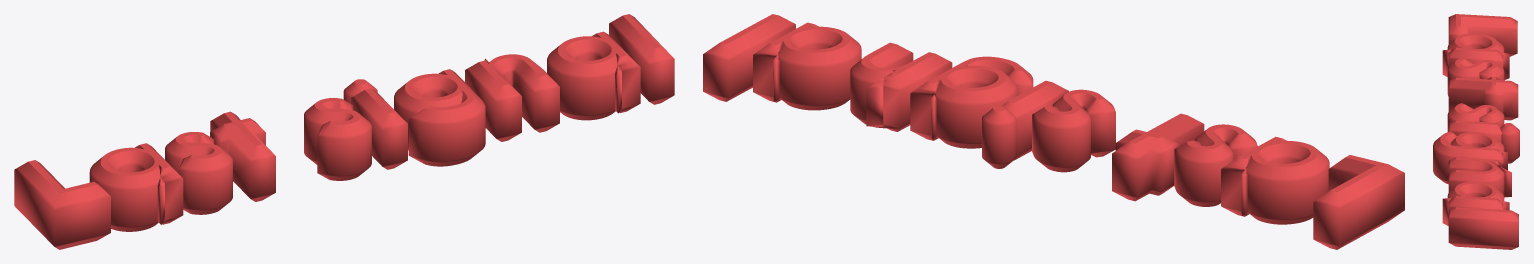
3 renders of one model, left to right at view 1: azimuth 30°, elevation 25°; view 2: azimuth 150°, elevation 25°; view 3: azimuth 270°, elevation 25°, orthographic. The views are drawn at different scales.
Parts seen in each view (by area): view 1: Text; view 2: Text; view 3: Text.
Boxes of the visible parts, x1,y1,x2,y2 form: Text: (14,14,674,249); Text: (703,14,1404,249); Text: (1433,14,1519,249).
Size of the model in its own units: 471 by 40 by 84.13.
